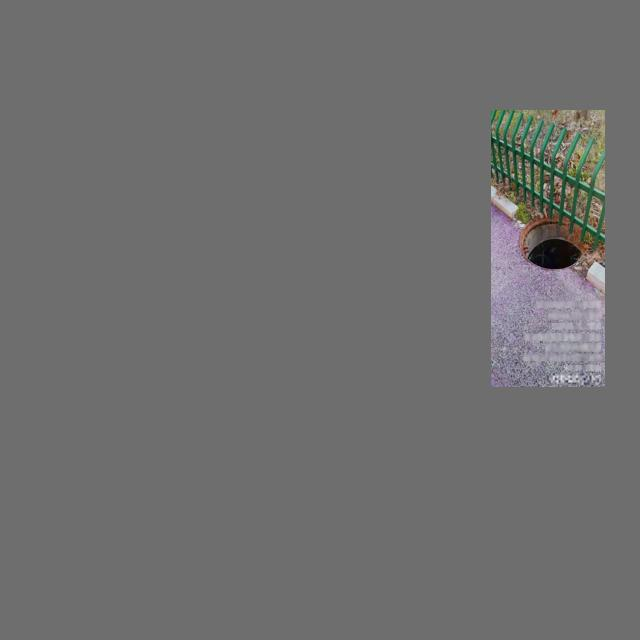lose: (512, 212, 594, 273)
